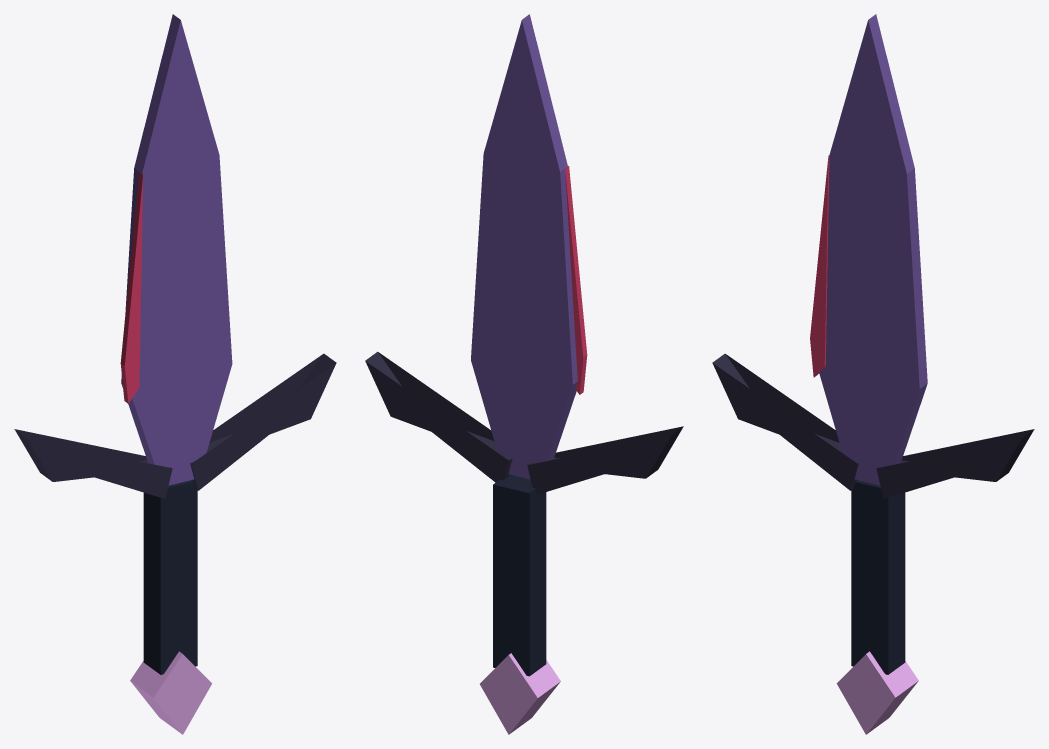
Rendered from sableblade.obj.
3 renders of one model, left to right at view 1: azimuth 30°, elevation 25°; view 2: azimuth 150°, elevation 25°; view 3: azimuth 330°, elevation 25°, orthographic.
Parts seen in each view (by area): view 1: sableblade_main, grip, crossguard_right, crossguard_left, pommel, edge_crimson; view 2: sableblade_main, grip, crossguard_right, crossguard_left, pommel, edge_crimson; view 3: sableblade_main, grip, crossguard_left, crossguard_right, pommel, edge_crimson.
Part boxes in pixels (x1,y1,x2,y2): sableblade_main: (121, 14, 232, 485); grip: (143, 480, 197, 674); crossguard_right: (190, 353, 336, 490); crossguard_left: (14, 429, 172, 498); pommel: (130, 651, 212, 734); edge_crimson: (120, 172, 143, 403); sableblade_main: (471, 14, 577, 479); grip: (493, 475, 546, 676); crossguard_right: (365, 351, 512, 482); crossguard_left: (527, 426, 683, 494); pommel: (480, 653, 560, 734); edge_crimson: (565, 166, 587, 394); sableblade_main: (819, 14, 927, 485); grip: (851, 480, 905, 674); crossguard_left: (712, 353, 858, 490); crossguard_right: (876, 429, 1034, 498); pommel: (836, 651, 918, 734); edge_crimson: (810, 155, 829, 377).
Size of the model in its own units: 1.68 by 3.7 by 0.22.
